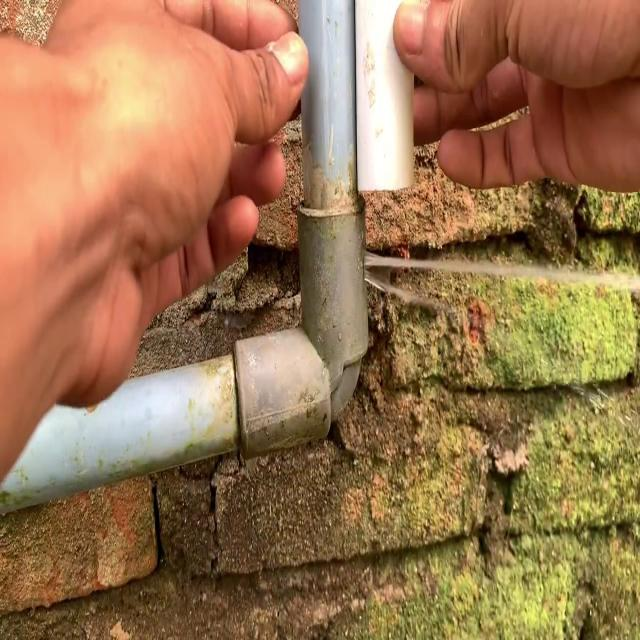leak: (363, 252, 640, 290)
